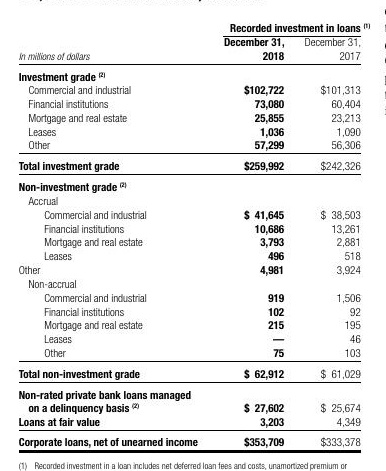table: (0, 0, 386, 471)
